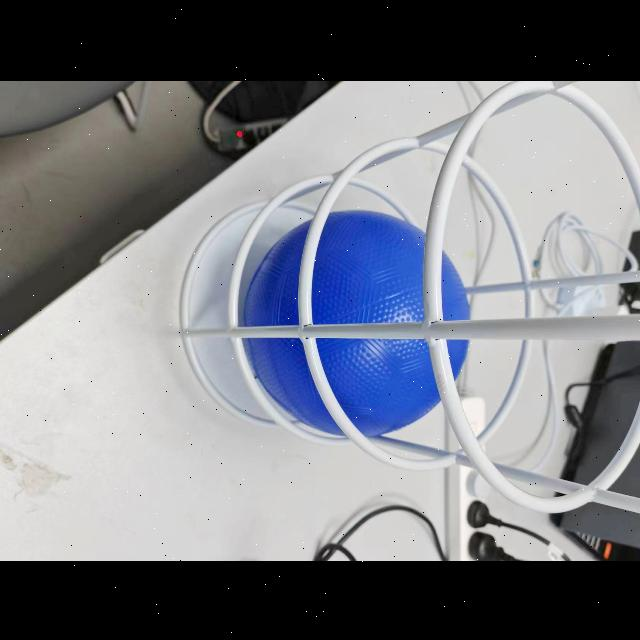B: (247, 209, 479, 441)
S: (170, 80, 640, 528)
